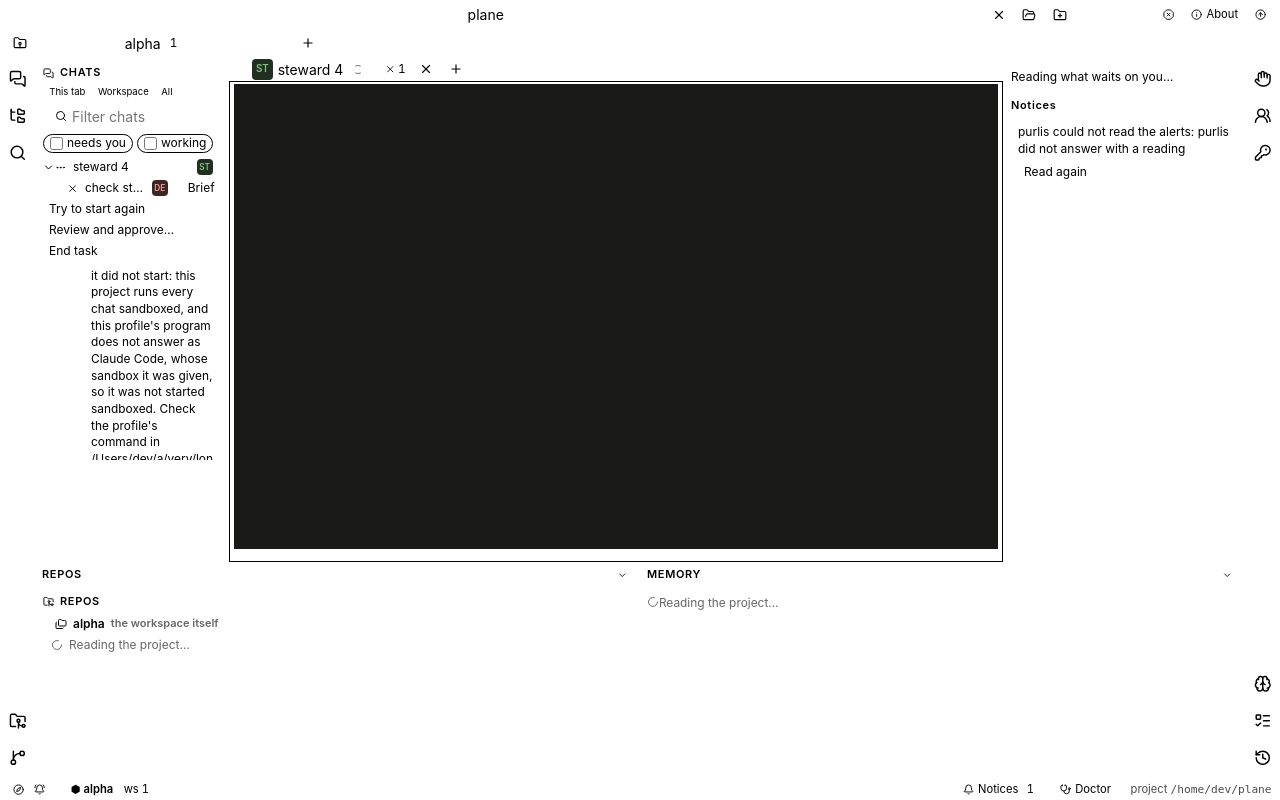
Test case: a task a launch could not start again › offers the approval its profile waits on, which opens the question and approves nothing
Click the button with aria-label "Review and approve what check staging would run" at [112, 230], box 43,220 -> 180,241
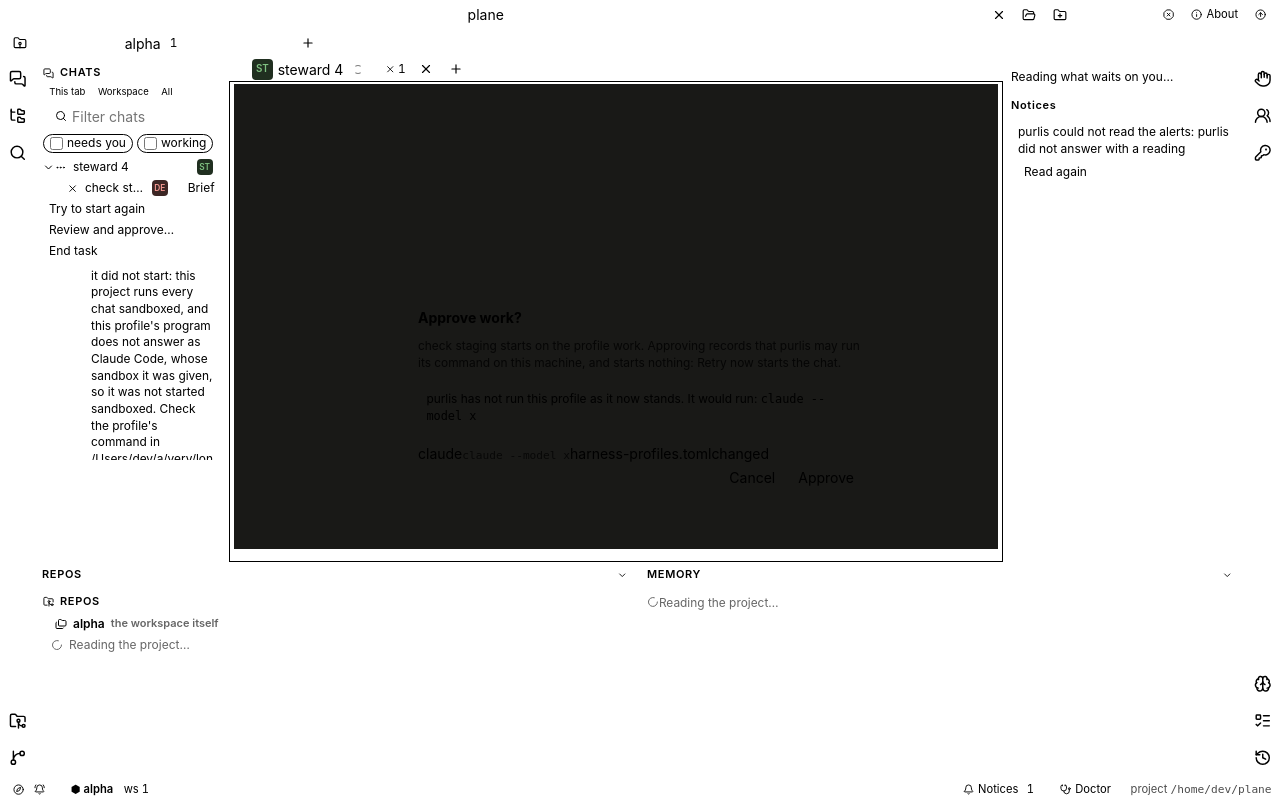
Check: the heading "Approve work?" is shown, box 418,309 -> 522,326
Check: the text "claude --model x" is shown, box 426,392 -> 825,423
